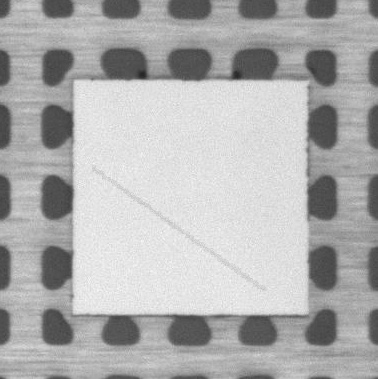DIE_CRACK: (93, 168, 262, 290)
